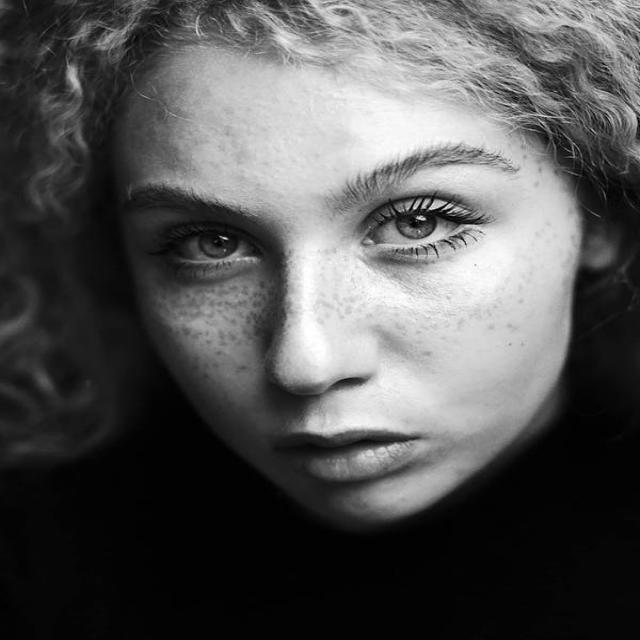no_mask: (105, 19, 610, 549)
